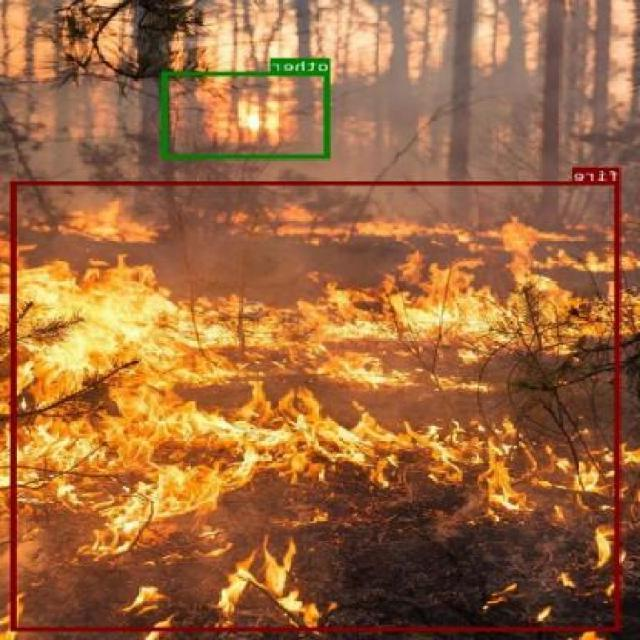Fire: (12, 181, 622, 630)
